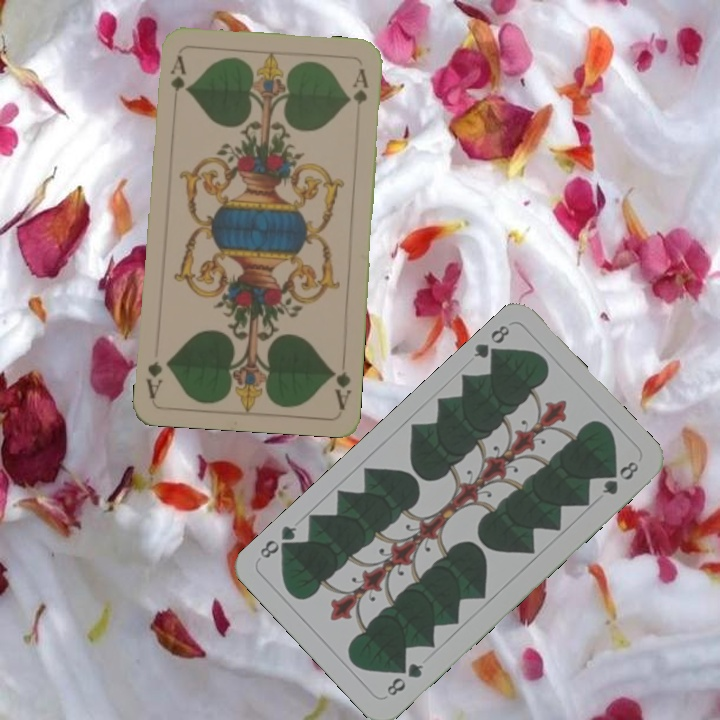G8: (469, 321, 513, 365), (382, 658, 426, 699)
GA: (166, 51, 188, 110), (327, 365, 354, 411)
